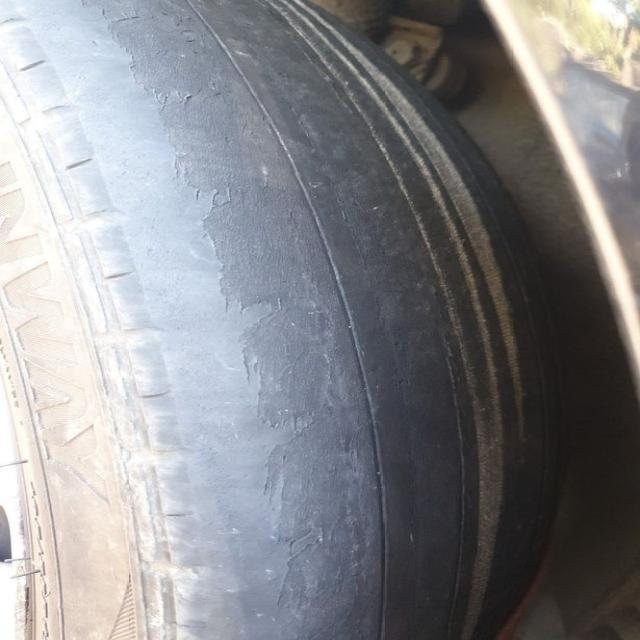Flat spots: (179, 54, 359, 639)
